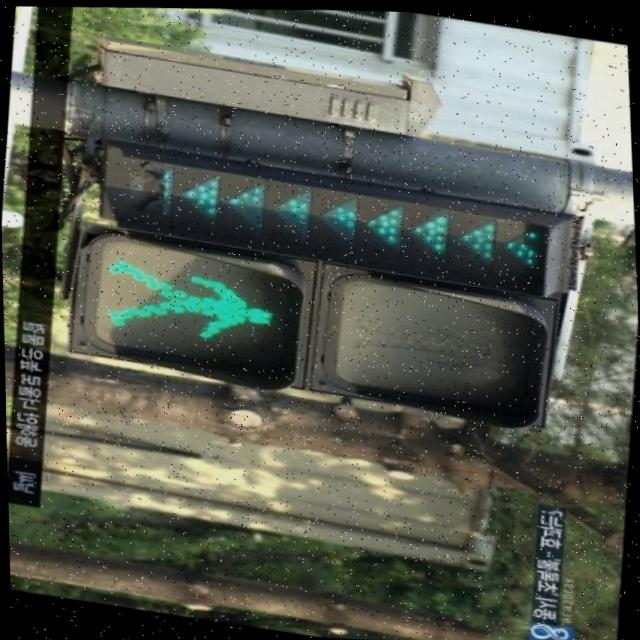green_light: (96, 244, 295, 372)
